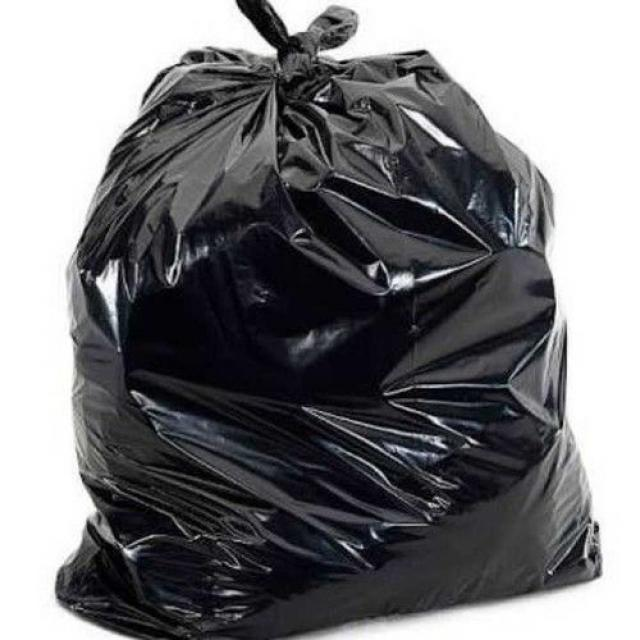plastic_bag: (75, 32, 557, 615)
